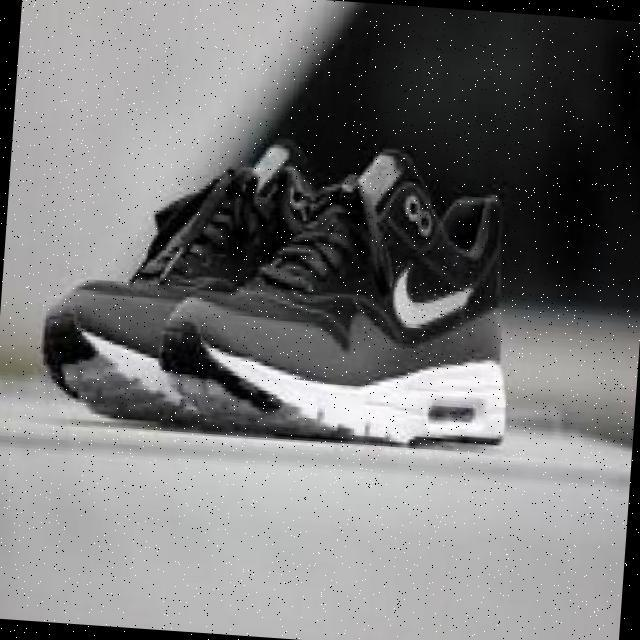Nike: (388, 251, 475, 331)
